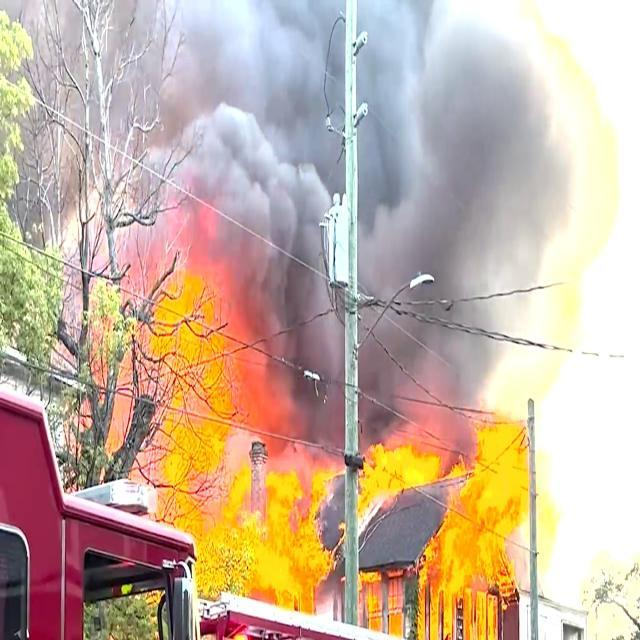Fire: (170, 292, 327, 633), (448, 441, 537, 640), (358, 444, 442, 488)
Smoke: (126, 23, 566, 264), (362, 288, 497, 416)
